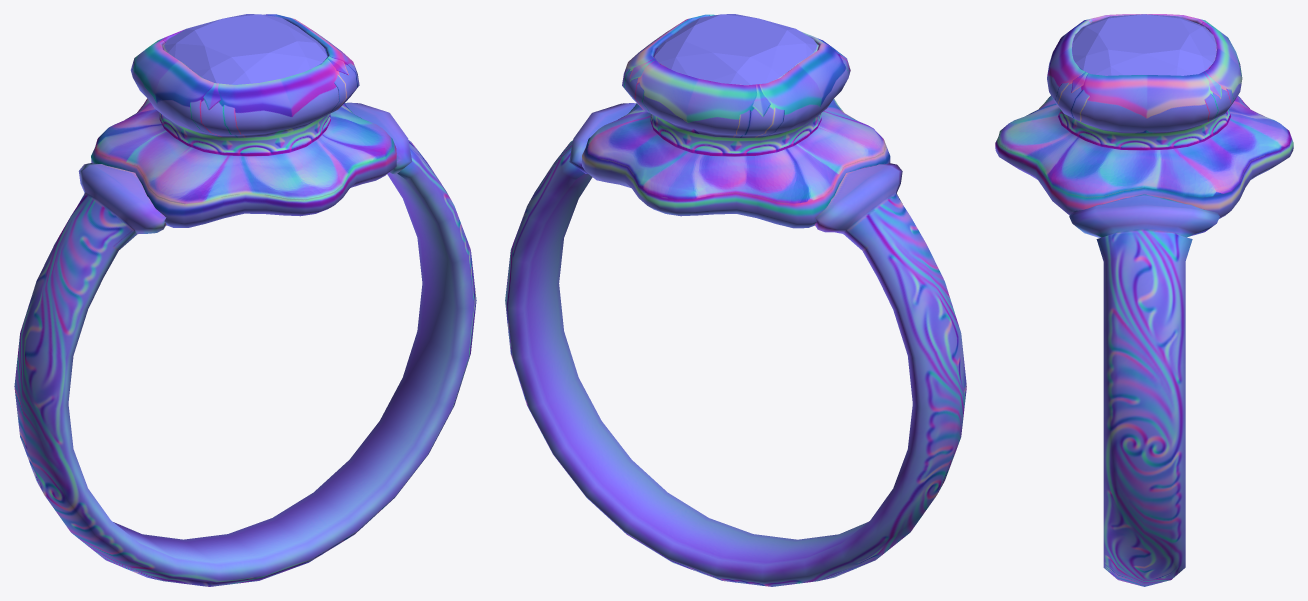
The model's file is ring2.glb.
3 views of the same model, side by side, from view 1: azimuth 30°, elevation 25°; view 2: azimuth 150°, elevation 25°; view 3: azimuth 270°, elevation 25° (orthographic). The views are drawn at different scales.
Visible parts, largest first — view 1: model_0; view 2: model_0; view 3: model_0.
Part boxes in pixels (bbox=[...]): model_0: bbox=[14, 14, 476, 586]; model_0: bbox=[505, 14, 966, 586]; model_0: bbox=[995, 14, 1293, 586].
Bounding box in the file's own units: 8.85 × 10.24 × 5.23.
Materials: 1 (1 with a texture image).
